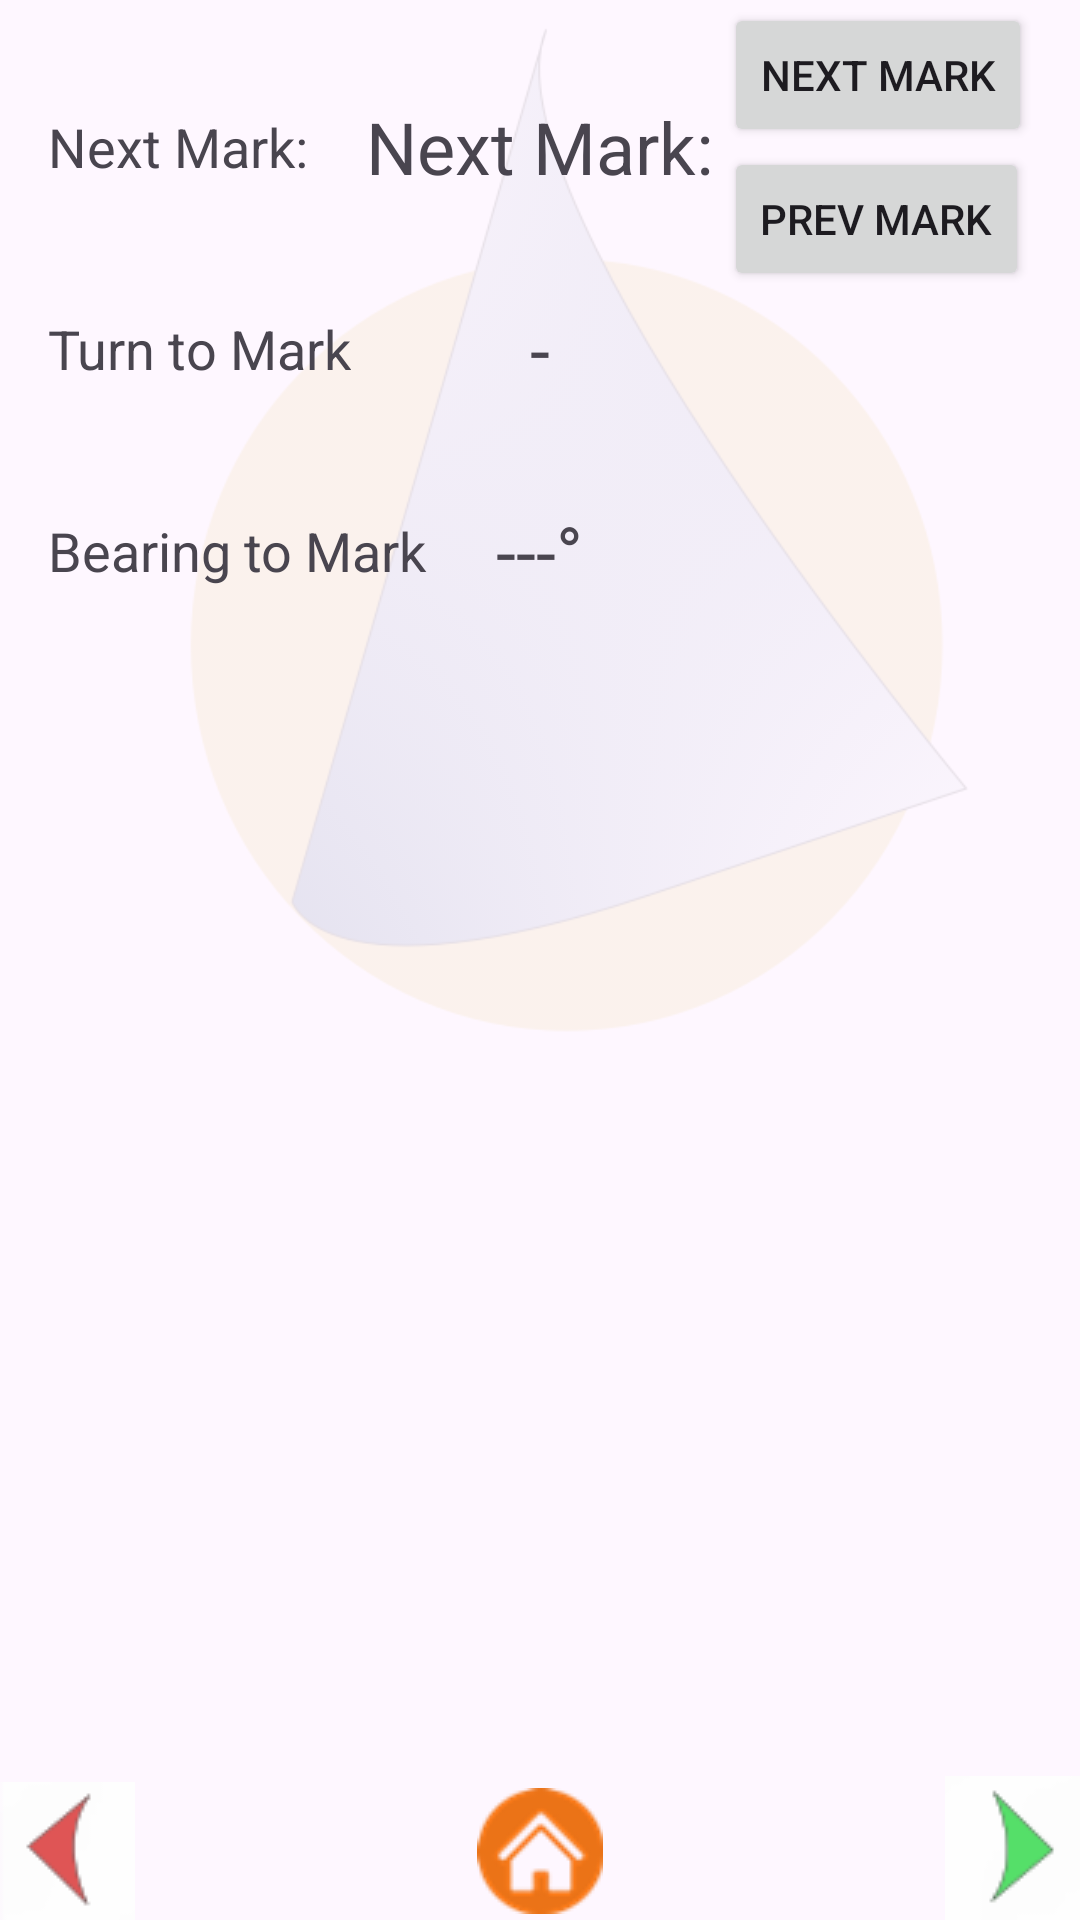

Where icons sit on this 1080 × 1920 app screen, as (x1, y1, x2, y2):
Home: (477, 1788, 603, 1914)
Left Nav: (26, 1793, 91, 1905)
Right Nav: (990, 1790, 1054, 1902)
